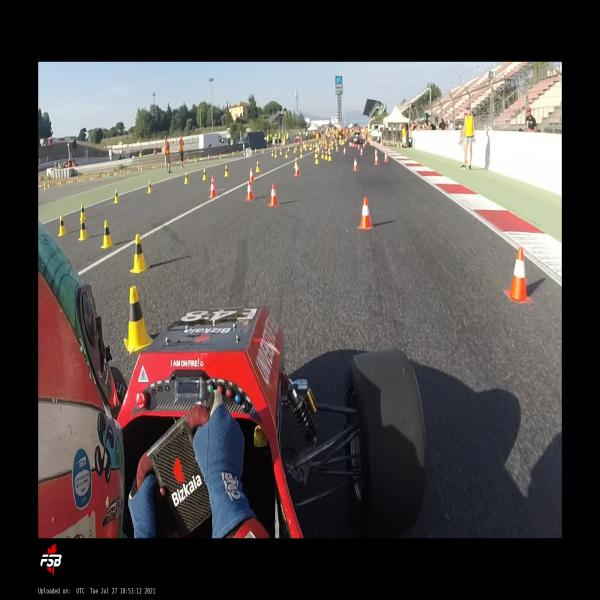orange_cone: (504, 247, 531, 303), (358, 197, 372, 230), (268, 183, 279, 207), (246, 180, 254, 201), (208, 181, 217, 198), (210, 174, 216, 190), (249, 168, 255, 182), (352, 158, 358, 171), (294, 163, 299, 176), (374, 154, 379, 165), (384, 152, 388, 162), (374, 148, 378, 156), (361, 148, 364, 156), (343, 147, 346, 154), (336, 145, 338, 152), (208, 154, 210, 160), (232, 151, 234, 156)
yellow_cone: (123, 286, 154, 354), (129, 233, 150, 273), (100, 220, 114, 248), (78, 217, 88, 241), (58, 215, 67, 236), (80, 203, 86, 220), (113, 190, 120, 204), (147, 180, 153, 194), (224, 165, 229, 177), (184, 172, 189, 184), (255, 161, 260, 172), (202, 169, 207, 180), (294, 157, 298, 168), (324, 150, 328, 160), (320, 150, 324, 159), (328, 152, 332, 161), (314, 155, 318, 164), (300, 150, 303, 158), (274, 151, 277, 158), (271, 150, 274, 156), (285, 151, 287, 158), (219, 153, 221, 159), (280, 149, 282, 155), (195, 157, 197, 162), (244, 151, 245, 156)
